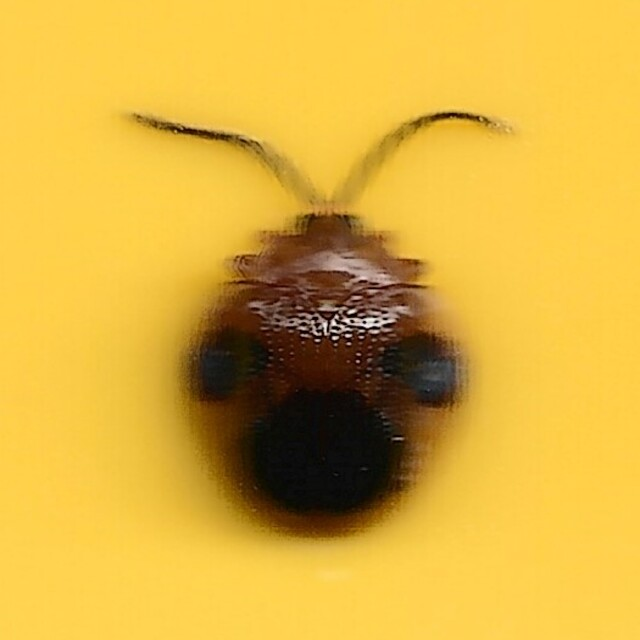Coleoptera: (122, 106, 518, 534)
